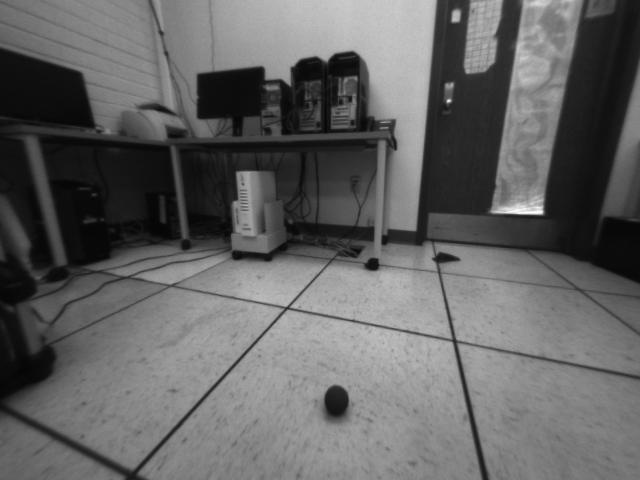dogtoy: (317, 376, 357, 427)
